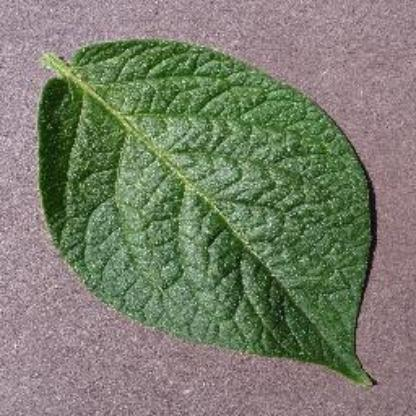Healthy-plant: (32, 34, 393, 388)
